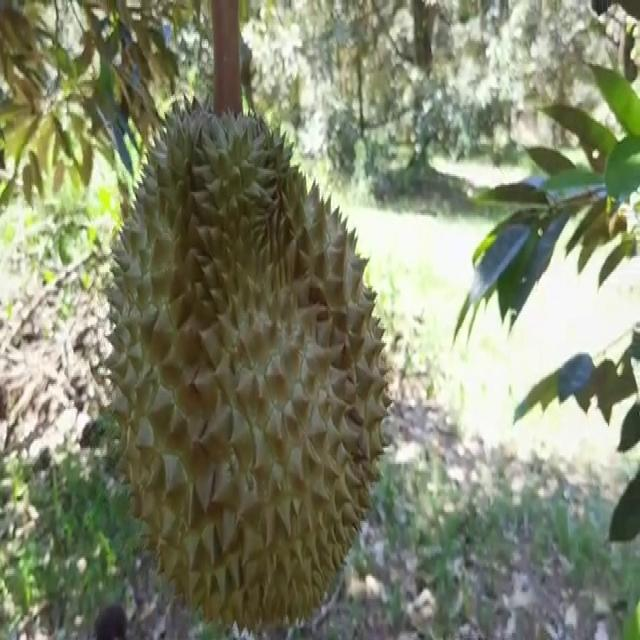durian: (99, 85, 398, 636)
